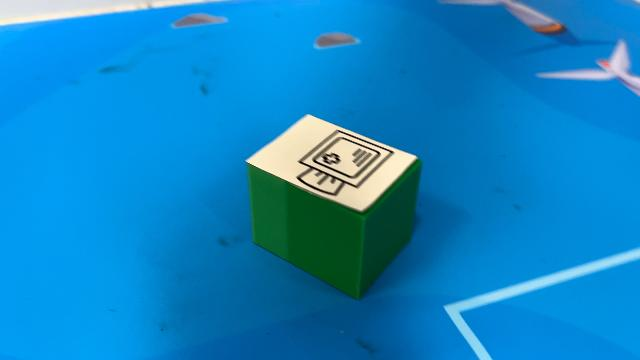napkin: (243, 111, 424, 300)
